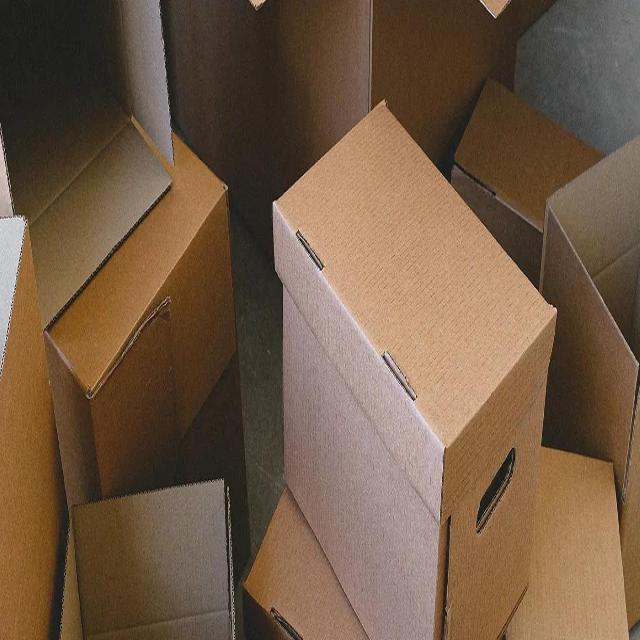cardboard: (272, 96, 559, 640), (45, 124, 254, 586), (242, 438, 630, 640), (0, 5, 175, 331), (540, 127, 640, 634), (450, 70, 612, 295), (58, 475, 237, 640)
